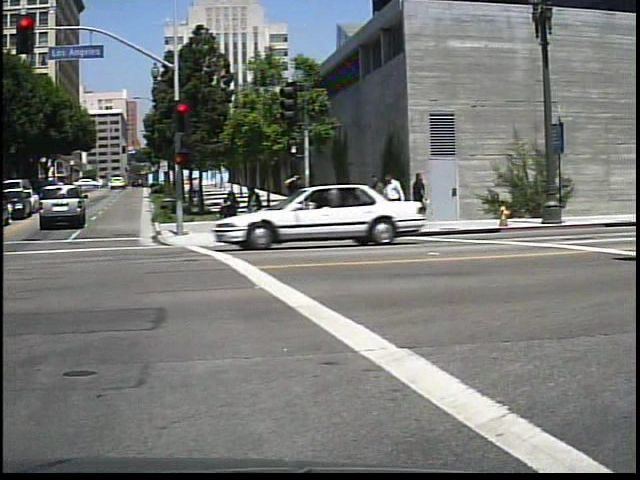person: (405, 171, 433, 227), (224, 191, 247, 244)
